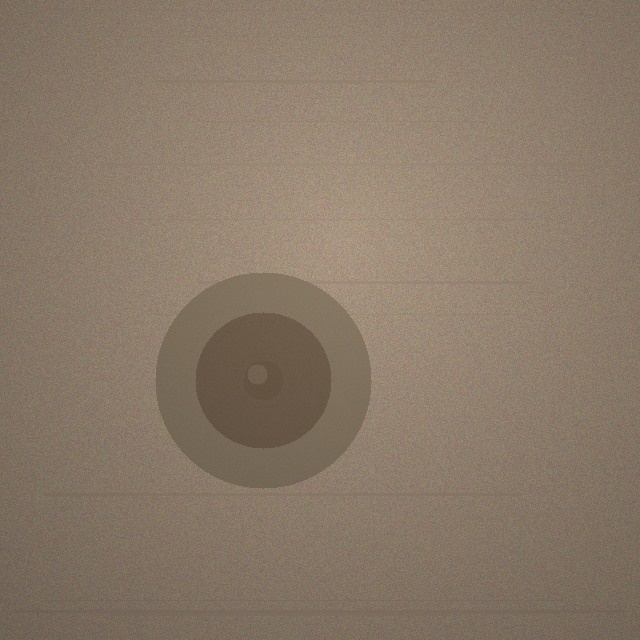good: (155, 272, 371, 488)
